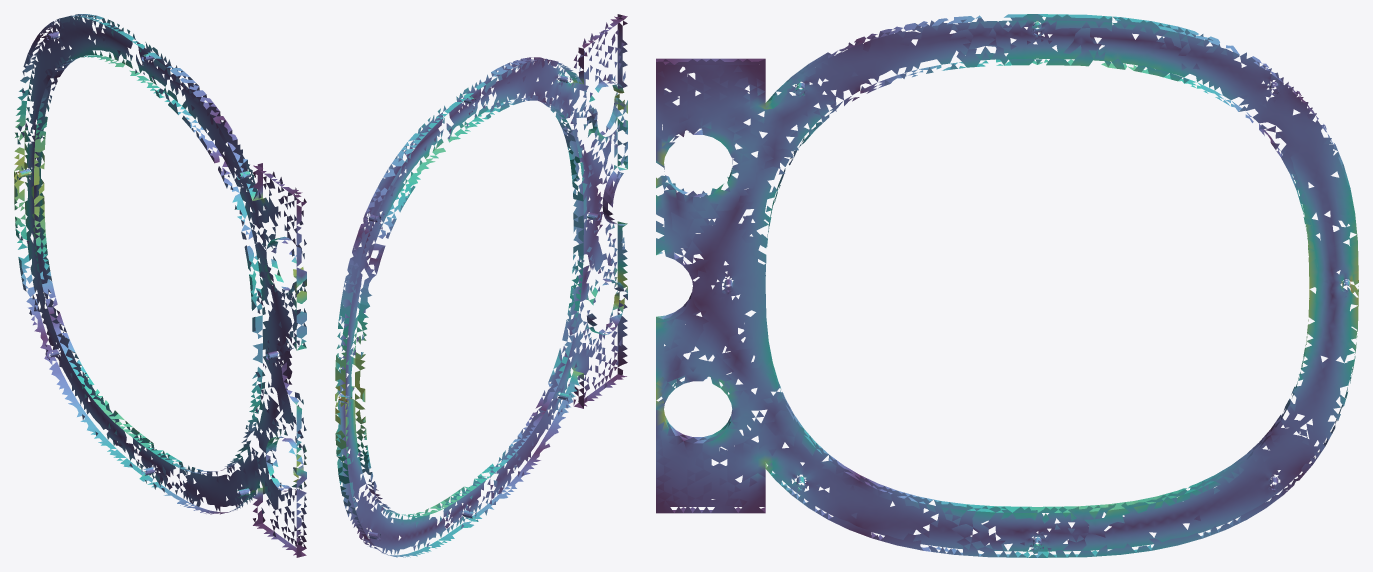
3 views of the same model, side by side, from view 1: azimuth 30°, elevation 25°; view 2: azimuth 150°, elevation 25°; view 3: azimuth 270°, elevation 25° (orthographic). The views are drawn at different scales.
Parts seen in each view (by area): view 1: geometry_0; view 2: geometry_0; view 3: geometry_0.
Part boxes in pixels (x1,y1,x2,y2): geometry_0: (14, 14, 306, 557); geometry_0: (335, 14, 627, 557); geometry_0: (656, 14, 1358, 557).
Bounding box in the file's own units: 6 × 240 × 284.
